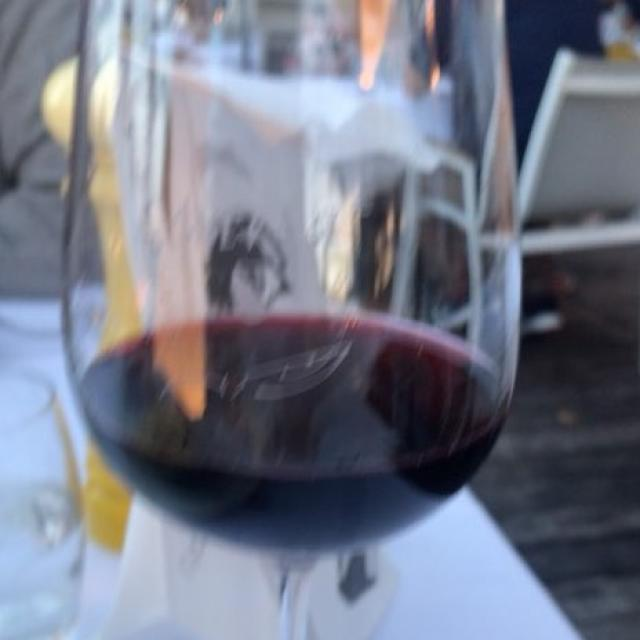wine-red: (77, 314, 506, 557)
